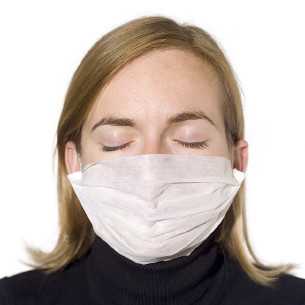face_mask: (68, 64, 243, 264)
